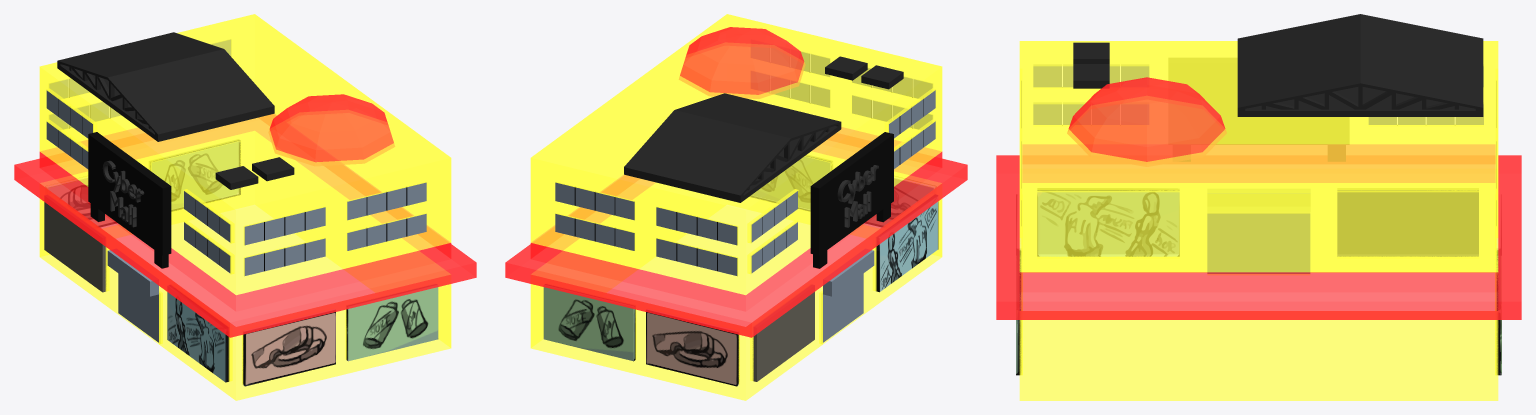
Rendered from Mall_Geo.fbx.
3 renders of one model, left to right at view 1: azimuth 30°, elevation 25°; view 2: azimuth 150°, elevation 25°; view 3: azimuth 270°, elevation 25°, orthographic. The views are drawn at different scales.
Parts seen in each view (by area): view 1: redMall; view 2: redMall; view 3: redMall.
Boxes of the visible parts, <box> form: redMall: <box>14,14,476,400</box>; redMall: <box>505,14,967,400</box>; redMall: <box>996,14,1521,400</box>.
Size of the model in its own units: 2470 by 2143 by 3737.
10 materials, 3 textured.
